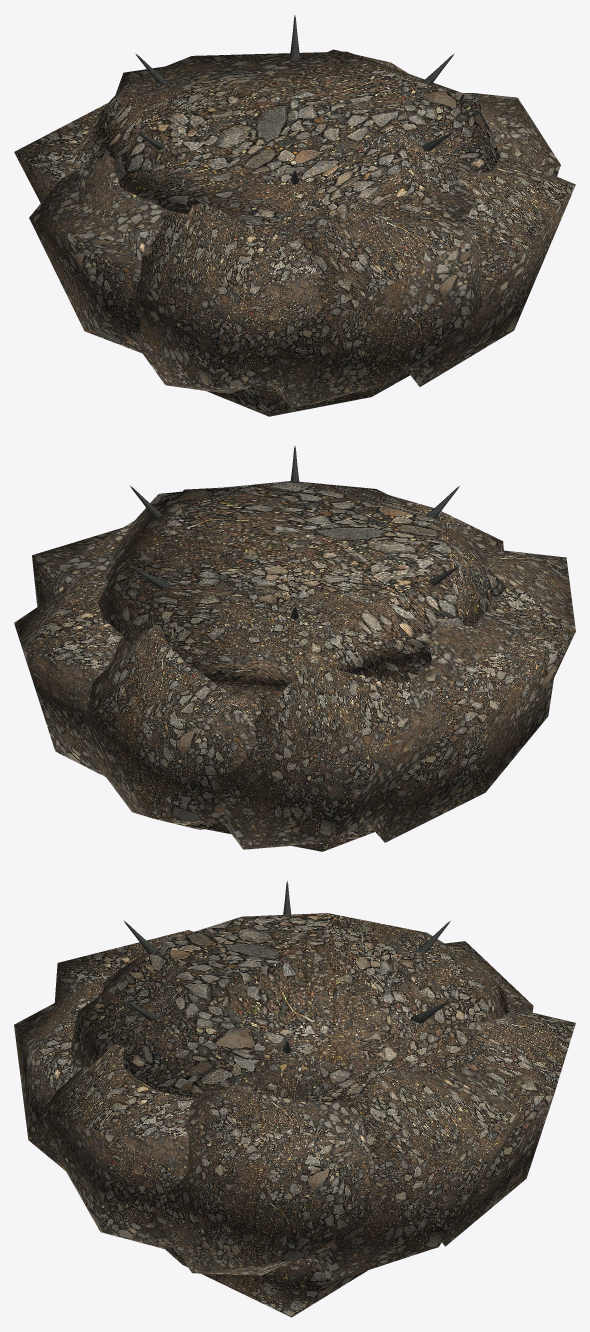
Rendered from trap_setB.fbx.
3 renders of one model, top to bottom at view 1: azimuth 30°, elevation 25°; view 2: azimuth 150°, elevation 25°; view 3: azimuth 270°, elevation 25°, orthographic. The views are drawn at different scales.
Parts seen in each view (by area): view 1: LOD_1_Group_2_Sub_1__Soil, LOD_1_Group_1_Sub_2__Bar; view 2: LOD_1_Group_2_Sub_1__Soil, LOD_1_Group_1_Sub_2__Bar; view 3: LOD_1_Group_2_Sub_1__Soil, LOD_1_Group_1_Sub_2__Bar.
Boxes of the visible parts, bbox=[...] form: LOD_1_Group_2_Sub_1__Soil: bbox=[14, 49, 575, 416]; LOD_1_Group_1_Sub_2__Bar: bbox=[135, 15, 454, 184]; LOD_1_Group_2_Sub_1__Soil: bbox=[14, 481, 575, 851]; LOD_1_Group_1_Sub_2__Bar: bbox=[130, 446, 459, 619]; LOD_1_Group_2_Sub_1__Soil: bbox=[14, 913, 575, 1317]; LOD_1_Group_1_Sub_2__Bar: bbox=[124, 881, 450, 1053].
Size of the model in its own units: 1118 by 675 by 1112.
Materials: 3 (3 with a texture image).
